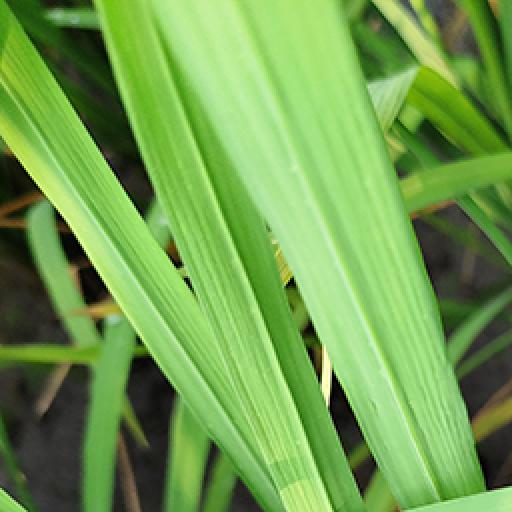Healthy Leaf: (2, 2, 508, 510)
